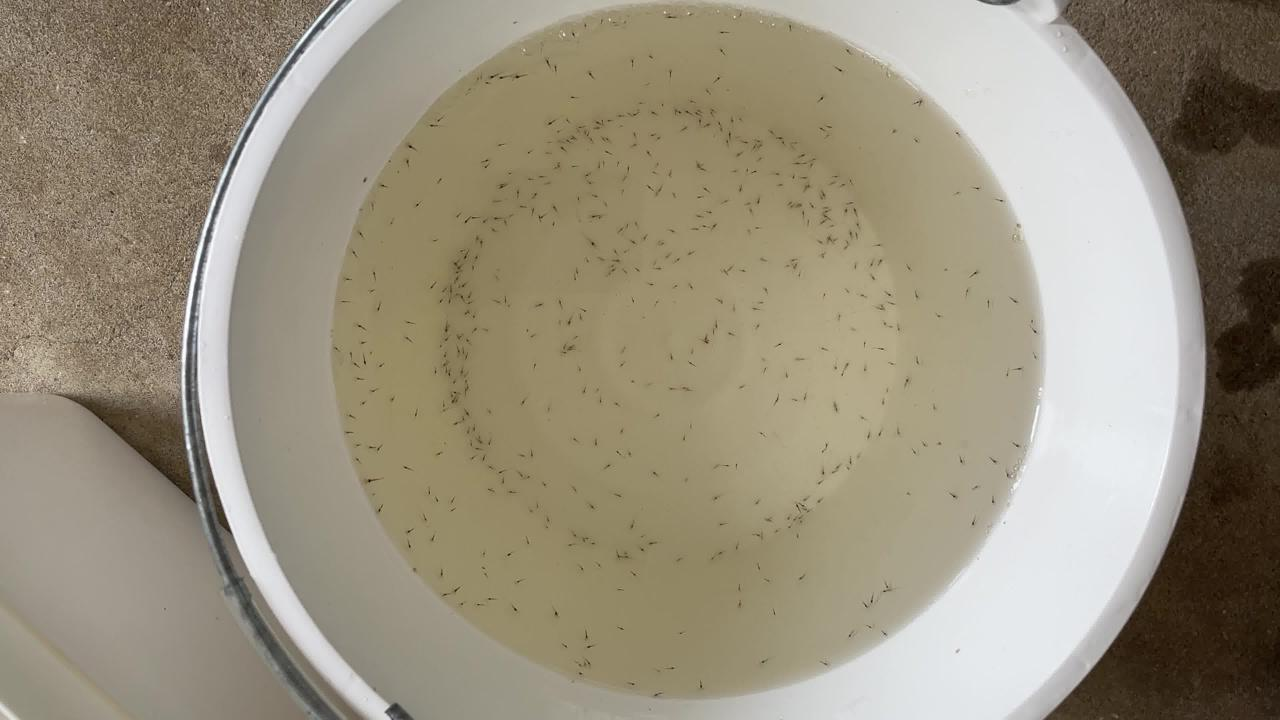shrimp: (891, 427, 904, 435), (829, 361, 842, 369), (710, 494, 723, 502), (456, 599, 469, 607), (578, 533, 591, 541), (349, 455, 362, 463), (539, 516, 552, 524), (614, 428, 627, 436), (484, 438, 497, 446), (460, 427, 473, 435), (430, 450, 443, 458), (448, 378, 461, 386), (426, 284, 439, 292), (515, 400, 528, 408), (477, 572, 490, 580), (460, 217, 473, 225), (451, 211, 464, 219), (479, 217, 492, 225), (496, 73, 509, 81), (566, 29, 579, 37), (686, 95, 699, 103), (723, 128, 736, 136), (750, 223, 763, 231), (789, 262, 802, 270), (700, 339, 713, 347), (687, 361, 700, 369), (680, 389, 693, 397), (662, 383, 675, 391), (527, 361, 540, 369), (569, 334, 582, 342), (579, 306, 592, 314), (543, 117, 556, 125), (602, 117, 615, 125), (589, 117, 602, 125), (573, 118, 586, 126), (594, 134, 607, 142), (599, 134, 612, 142), (600, 145, 613, 153), (651, 134, 664, 142), (650, 189, 663, 197), (697, 184, 710, 192), (690, 212, 703, 220), (666, 256, 679, 264), (683, 283, 696, 291), (607, 267, 620, 275), (590, 162, 603, 170), (488, 139, 501, 147), (530, 190, 543, 198), (533, 212, 546, 220), (498, 217, 511, 225), (502, 211, 515, 219), (504, 167, 517, 175), (1001, 368, 1013, 376), (1012, 362, 1024, 370), (1007, 442, 1019, 450), (987, 454, 999, 462), (956, 453, 968, 461), (929, 438, 941, 446), (919, 439, 931, 447), (905, 449, 917, 457), (797, 497, 809, 505), (791, 500, 803, 508), (780, 511, 792, 519), (785, 514, 797, 522), (796, 511, 808, 519), (796, 516, 808, 524), (813, 495, 825, 503), (801, 504, 813, 512), (766, 514, 778, 522), (773, 524, 785, 532), (881, 589, 893, 597), (880, 579, 892, 587), (865, 597, 877, 605), (859, 602, 871, 610), (863, 620, 875, 628), (876, 626, 888, 634), (946, 494, 958, 502), (972, 480, 984, 488), (985, 497, 997, 505), (965, 517, 977, 525), (840, 628, 852, 636), (817, 656, 829, 664), (755, 657, 767, 665), (765, 610, 777, 618), (796, 575, 808, 583), (791, 531, 803, 539), (762, 580, 774, 588), (754, 561, 766, 569), (753, 531, 765, 539), (744, 532, 756, 540), (732, 538, 744, 546), (730, 585, 742, 593), (731, 597, 743, 605), (716, 546, 728, 554), (709, 550, 721, 558), (673, 625, 685, 633), (665, 663, 677, 671), (693, 681, 705, 689), (649, 664, 661, 672), (622, 679, 634, 687), (582, 656, 594, 664), (574, 660, 586, 668), (578, 659, 590, 667), (561, 642, 573, 650), (581, 641, 593, 649), (580, 631, 592, 639), (613, 622, 625, 630), (761, 127, 773, 135), (768, 130, 780, 138), (778, 140, 790, 148), (785, 145, 797, 153), (784, 134, 796, 142), (794, 149, 806, 157), (787, 159, 799, 167), (800, 152, 812, 160), (805, 160, 817, 168), (830, 171, 842, 179), (843, 177, 855, 185), (843, 198, 855, 206), (851, 208, 863, 216), (851, 220, 863, 228), (850, 234, 862, 242), (844, 224, 856, 232), (838, 208, 850, 216), (824, 179, 836, 187), (870, 237, 882, 245), (864, 257, 876, 265), (875, 259, 887, 267), (867, 273, 879, 281), (880, 285, 892, 293), (887, 302, 899, 310), (890, 321, 902, 329), (869, 302, 881, 310), (877, 300, 889, 308), (858, 291, 870, 299), (841, 284, 853, 292), (850, 259, 862, 267), (839, 244, 851, 252), (840, 238, 852, 246), (823, 240, 835, 248), (820, 238, 832, 246), (811, 217, 823, 225), (822, 222, 834, 230), (816, 213, 828, 221), (824, 206, 836, 214), (816, 205, 828, 213), (812, 195, 824, 203), (816, 191, 828, 199), (806, 201, 818, 209), (798, 212, 810, 220), (793, 201, 805, 209), (785, 202, 797, 210), (782, 199, 794, 207), (800, 186, 812, 194), (797, 174, 809, 182), (786, 175, 798, 183), (769, 170, 781, 178), (773, 177, 785, 185), (813, 127, 825, 135), (817, 132, 829, 140), (820, 122, 832, 130), (811, 95, 823, 103), (828, 66, 840, 74), (887, 125, 899, 133), (912, 98, 924, 106), (908, 138, 920, 146), (947, 127, 959, 135), (968, 268, 980, 276), (984, 298, 996, 306), (1010, 295, 1022, 303), (1028, 324, 1040, 332), (1026, 351, 1038, 359), (995, 196, 1007, 204), (965, 183, 977, 191), (946, 190, 958, 198), (941, 261, 953, 269), (960, 285, 972, 293), (930, 313, 942, 321), (910, 290, 922, 298), (901, 267, 913, 275), (908, 357, 920, 365), (927, 401, 939, 409), (901, 376, 913, 384), (887, 362, 899, 370), (872, 345, 884, 353), (857, 361, 869, 369), (857, 338, 869, 346), (813, 480, 825, 488), (800, 394, 812, 402), (428, 499, 440, 507), (340, 428, 352, 436), (478, 455, 490, 463), (473, 438, 485, 446), (439, 367, 451, 375), (367, 267, 379, 275), (794, 272, 806, 280), (727, 261, 739, 269), (711, 322, 723, 330), (617, 345, 629, 353), (589, 123, 601, 131), (551, 139, 563, 147), (711, 222, 723, 230), (644, 278, 656, 286), (815, 467, 828, 474), (825, 469, 838, 476), (829, 463, 842, 470), (841, 465, 854, 472), (845, 457, 858, 464), (851, 454, 864, 461), (862, 433, 875, 440), (872, 432, 885, 439), (856, 414, 869, 421), (835, 371, 848, 378), (831, 405, 844, 412), (819, 444, 832, 451), (789, 396, 802, 403), (771, 398, 784, 405), (781, 372, 794, 379), (790, 357, 803, 364), (839, 362, 852, 369), (771, 343, 784, 350), (758, 366, 771, 373), (733, 384, 746, 391), (846, 327, 859, 334), (879, 319, 892, 326), (834, 315, 847, 322), (757, 432, 770, 439), (750, 499, 763, 506), (730, 463, 743, 470), (719, 462, 732, 469), (710, 463, 723, 470), (677, 435, 690, 442), (684, 423, 697, 430), (678, 476, 691, 483), (648, 469, 661, 476), (636, 546, 649, 553), (634, 532, 647, 539), (625, 523, 638, 530), (625, 573, 638, 580), (618, 552, 631, 559), (614, 555, 627, 562), (615, 585, 628, 592), (649, 691, 662, 698), (548, 610, 561, 617), (487, 594, 500, 601), (437, 591, 450, 598), (450, 587, 463, 594), (434, 569, 447, 576), (402, 543, 415, 550), (425, 536, 438, 543), (510, 579, 523, 586), (502, 551, 515, 558), (575, 565, 588, 572), (592, 562, 605, 569), (586, 539, 599, 546), (564, 542, 577, 549), (567, 531, 580, 538), (448, 496, 461, 503), (402, 528, 415, 535), (362, 476, 375, 483), (399, 462, 412, 469), (375, 441, 388, 448), (364, 444, 377, 451), (344, 413, 357, 420), (531, 503, 544, 510), (585, 505, 598, 512), (616, 491, 629, 498), (567, 486, 580, 493), (603, 462, 616, 469), (537, 480, 550, 487), (523, 451, 536, 458), (514, 452, 527, 459), (513, 470, 526, 477), (496, 479, 509, 486), (495, 468, 508, 475), (485, 464, 498, 471), (463, 456, 476, 463), (471, 446, 484, 453), (469, 425, 482, 432), (462, 442, 475, 449), (481, 410, 494, 417), (462, 407, 475, 414), (449, 422, 462, 429), (411, 412, 424, 419), (423, 486, 436, 493), (436, 401, 449, 408), (437, 408, 450, 415), (452, 398, 465, 405), (447, 398, 460, 405), (459, 389, 472, 396), (459, 372, 472, 379), (444, 370, 457, 377), (430, 368, 443, 375), (437, 352, 450, 359), (434, 340, 447, 347), (460, 353, 473, 360), (457, 346, 470, 353), (450, 348, 463, 355), (452, 333, 465, 340), (433, 298, 446, 305), (434, 285, 447, 292), (442, 299, 455, 306), (444, 286, 457, 293), (464, 290, 477, 297), (454, 294, 467, 301), (458, 282, 471, 289), (449, 276, 462, 283), (452, 264, 465, 271), (447, 259, 460, 266), (457, 252, 470, 259), (470, 255, 483, 262), (471, 234, 484, 241), (499, 296, 512, 303), (491, 298, 504, 305), (543, 405, 556, 412), (521, 539, 534, 546), (473, 549, 486, 556), (476, 563, 489, 570), (386, 396, 399, 403), (365, 388, 378, 395), (350, 374, 363, 381), (349, 361, 362, 368), (327, 344, 340, 351), (357, 360, 370, 367), (354, 339, 367, 346), (352, 321, 365, 328), (399, 335, 412, 342), (400, 319, 413, 326), (370, 305, 383, 312), (336, 298, 349, 305), (339, 275, 352, 282), (353, 227, 366, 234), (376, 181, 389, 188), (402, 155, 415, 162), (402, 142, 415, 149), (435, 176, 448, 183), (484, 226, 497, 233), (491, 183, 504, 190), (497, 180, 510, 187), (363, 288, 376, 295), (422, 122, 435, 129), (432, 115, 445, 122), (542, 58, 555, 65), (540, 55, 553, 62), (578, 19, 591, 26), (662, 11, 675, 18), (841, 47, 854, 54), (711, 27, 724, 34), (662, 67, 675, 74), (703, 89, 716, 96), (723, 117, 736, 124), (709, 105, 722, 112), (704, 108, 717, 115), (693, 104, 706, 111), (688, 110, 701, 117), (680, 107, 693, 114), (671, 107, 684, 114), (703, 119, 716, 126), (693, 116, 706, 123), (674, 125, 687, 132), (712, 122, 725, 129), (718, 138, 731, 145), (737, 135, 750, 142), (731, 153, 744, 160), (757, 143, 770, 150), (748, 145, 761, 152), (752, 136, 765, 143), (752, 155, 765, 162), (748, 170, 761, 177), (741, 165, 754, 172), (730, 167, 743, 174), (733, 184, 746, 191), (751, 195, 764, 202), (742, 197, 755, 204), (745, 210, 758, 217), (738, 227, 751, 234), (814, 252, 827, 259), (817, 291, 830, 298), (786, 257, 799, 264), (756, 254, 769, 261), (717, 267, 730, 274), (760, 288, 773, 295), (756, 299, 769, 306), (747, 303, 760, 310), (752, 322, 765, 329), (715, 298, 728, 305), (728, 308, 741, 315), (725, 330, 738, 337), (700, 336, 713, 343), (685, 348, 698, 355), (665, 354, 678, 361), (677, 384, 690, 391), (652, 413, 665, 420), (640, 380, 653, 387), (627, 377, 640, 384), (614, 360, 627, 367), (593, 398, 606, 405), (578, 389, 591, 396), (575, 366, 588, 373), (556, 352, 569, 359), (566, 344, 579, 351), (527, 332, 540, 339), (562, 320, 575, 327), (553, 298, 566, 305), (532, 301, 545, 308), (574, 314, 587, 321), (566, 94, 579, 101), (646, 108, 659, 115), (628, 109, 641, 116), (612, 111, 625, 118), (599, 116, 612, 123), (555, 144, 568, 151), (567, 133, 580, 140), (579, 130, 592, 137), (623, 141, 636, 148), (645, 130, 658, 137), (640, 148, 653, 155), (648, 160, 661, 167), (640, 181, 653, 188), (666, 169, 679, 176), (668, 192, 681, 199), (695, 165, 708, 172), (692, 162, 705, 169), (690, 192, 703, 199), (720, 199, 733, 206), (703, 209, 716, 216), (701, 224, 714, 231), (664, 226, 677, 233), (684, 249, 697, 256), (667, 281, 680, 288), (625, 297, 638, 304), (650, 266, 663, 273), (640, 233, 653, 240), (626, 238, 639, 245), (632, 219, 645, 226), (621, 221, 634, 228), (615, 226, 628, 233), (586, 241, 599, 248), (632, 267, 645, 274), (620, 269, 633, 276), (607, 261, 620, 268), (610, 256, 623, 263), (590, 253, 603, 260), (608, 247, 621, 254), (619, 248, 632, 255), (569, 275, 582, 282), (591, 213, 604, 220), (588, 192, 601, 199), (615, 188, 628, 195), (623, 163, 636, 170), (608, 161, 621, 168), (597, 160, 610, 167), (582, 169, 595, 176), (582, 181, 595, 188), (564, 160, 577, 167), (554, 160, 567, 167), (522, 175, 535, 182), (531, 172, 544, 179), (543, 180, 556, 187), (522, 149, 535, 156), (473, 156, 486, 163), (479, 164, 492, 171), (487, 198, 500, 205), (514, 203, 527, 210), (510, 186, 523, 193), (546, 204, 559, 211), (523, 205, 536, 212), (545, 220, 558, 227), (539, 149, 552, 156), (651, 298, 664, 305), (877, 399, 889, 406), (883, 384, 895, 391), (816, 346, 828, 353), (716, 522, 728, 529), (672, 557, 684, 564), (645, 540, 657, 547), (506, 604, 518, 611), (473, 601, 485, 608), (445, 507, 457, 514), (418, 517, 430, 524), (373, 506, 385, 513), (484, 487, 496, 494), (506, 488, 518, 495), (611, 449, 623, 456), (589, 438, 601, 445), (567, 436, 579, 443), (622, 452, 634, 459), (473, 436, 485, 443), (445, 391, 457, 398), (462, 381, 474, 388), (456, 368, 468, 375), (440, 323, 452, 330), (467, 328, 479, 335), (479, 323, 491, 330), (462, 337, 474, 344), (462, 299, 474, 306), (478, 238, 490, 245), (357, 399, 369, 406), (346, 347, 358, 354), (373, 362, 385, 369), (345, 248, 357, 255), (367, 199, 379, 206), (412, 198, 424, 205), (428, 239, 440, 246), (384, 218, 396, 225), (490, 215, 502, 222), (484, 73, 496, 80), (511, 72, 523, 79), (550, 60, 562, 67), (583, 69, 595, 76), (628, 54, 640, 61), (783, 24, 795, 31), (717, 45, 729, 52), (711, 74, 723, 81), (739, 267, 751, 274), (611, 401, 623, 408), (556, 343, 568, 350), (562, 113, 574, 120), (622, 110, 634, 117), (561, 138, 573, 145), (584, 136, 596, 143), (628, 128, 640, 135), (645, 167, 657, 174), (689, 224, 701, 231), (572, 263, 584, 270), (600, 199, 612, 206), (617, 174, 629, 181), (489, 276, 501, 283)
